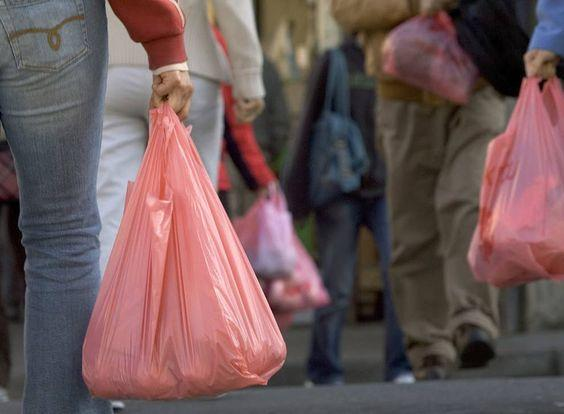LDPE: (79, 101, 290, 402), (467, 68, 564, 290), (227, 190, 329, 334), (379, 8, 480, 108)
